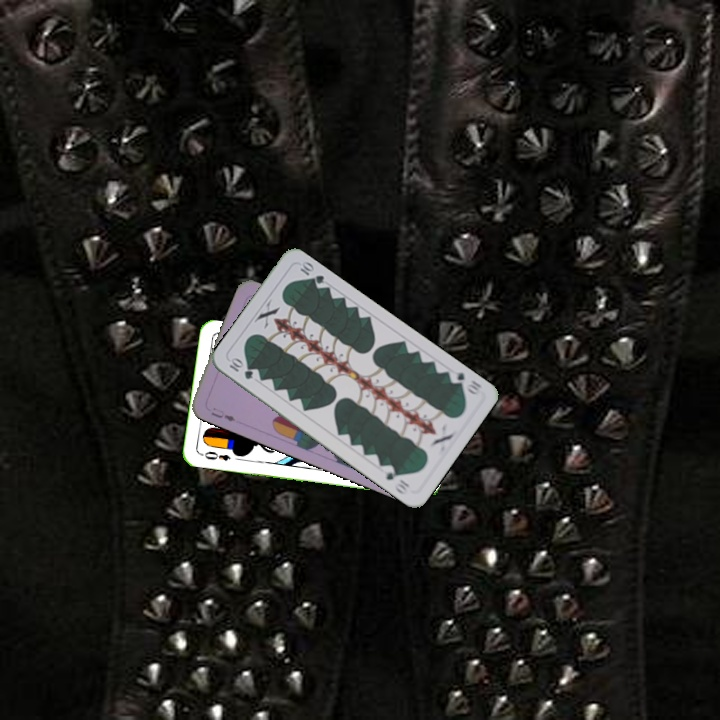EO: (201, 447, 233, 463)
EU: (207, 403, 238, 424)
G10: (445, 366, 485, 398), (225, 354, 256, 382)
